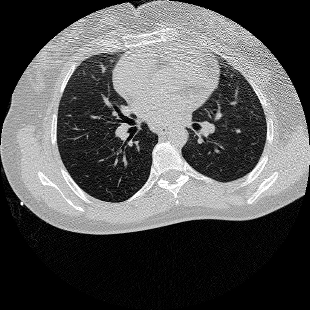nodule: (237, 130, 241, 134)
